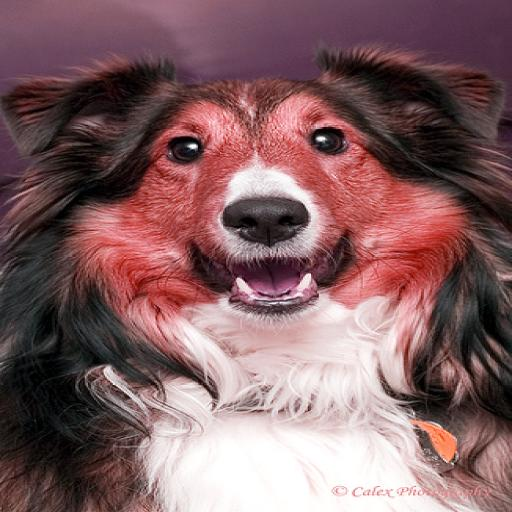dog_face: (6, 52, 489, 327)
